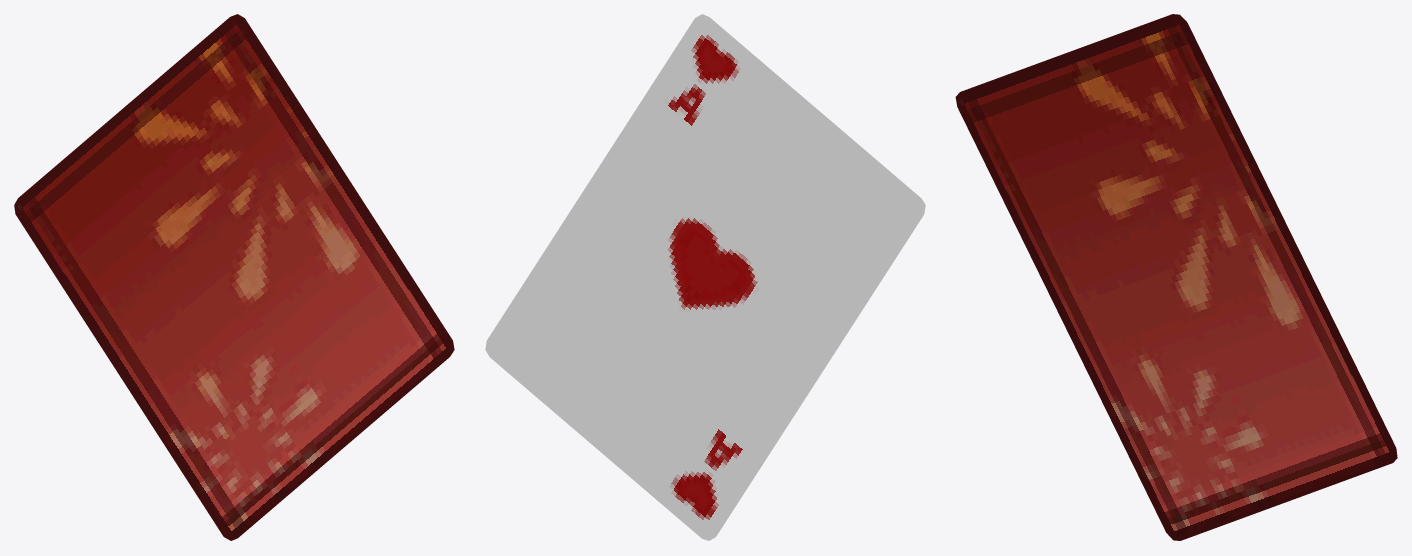
The model's file is ps2_save-icons_tennisnoouji-samakissofprinceflame.glb.
The picture shows the model from 3 angles, left to right: view 1: azimuth 30°, elevation 25°; view 2: azimuth 150°, elevation 25°; view 3: azimuth 330°, elevation 25°; orthographic projection.
Parts seen in each view (by area): view 1: icon.ico; view 2: icon.ico; view 3: icon.ico.
Part boxes in pixels (x1,y1,x2,y2): icon.ico: (14,14,454,540); icon.ico: (485,14,925,540); icon.ico: (955,14,1397,540).
Bounding box in the file's own units: 4.34 × 4.95 × 0.0239.
1 material, 1 textured.
